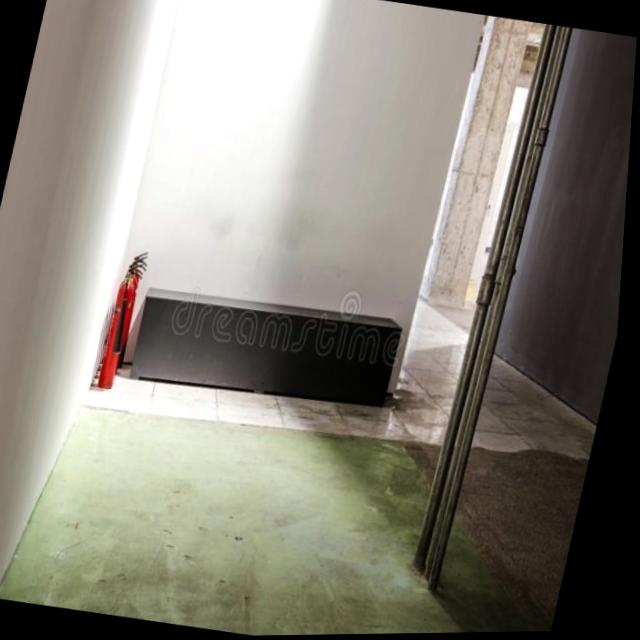FireExtinguisher: (101, 245, 156, 380)
